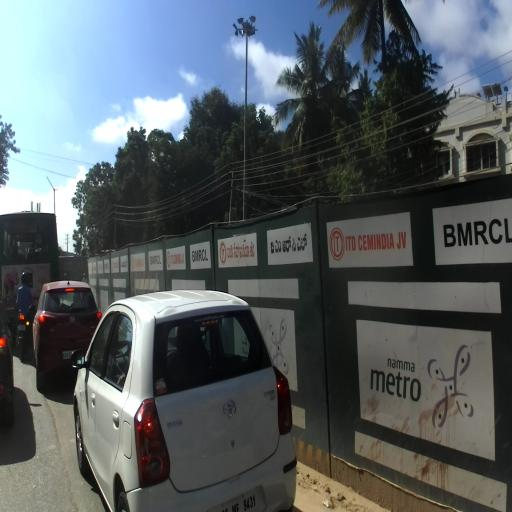street_light_0: (46, 176, 56, 192), (53, 189, 58, 192)
